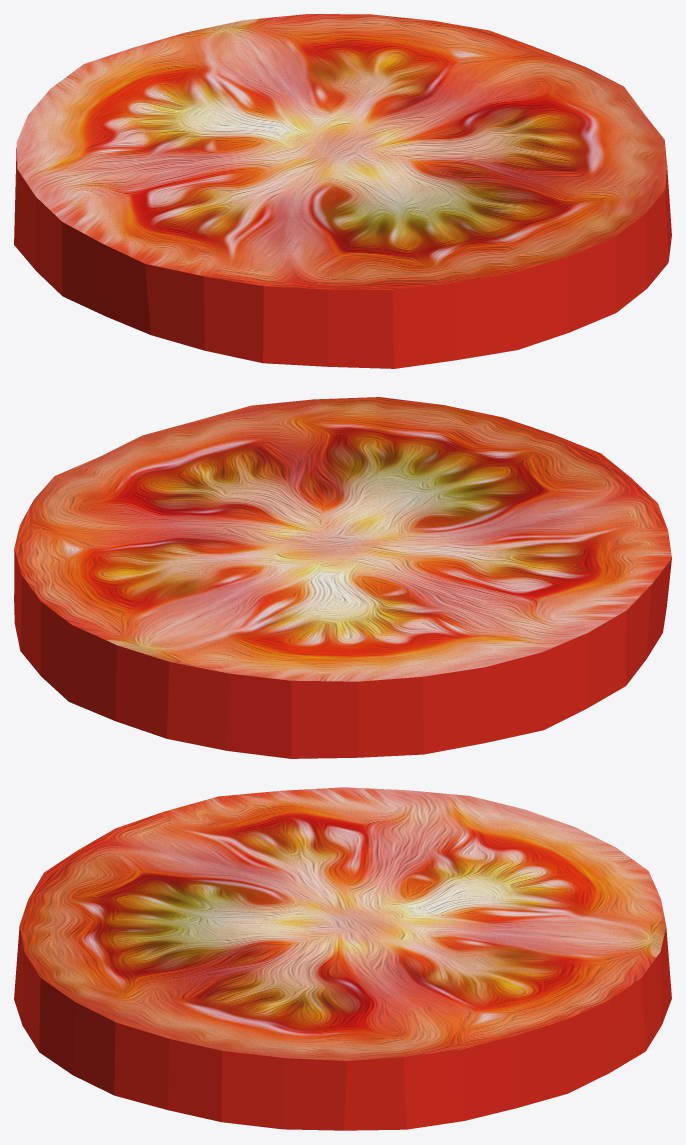
The model's file is tomato_slice.fbx.
The picture shows the model from 3 angles, top to bottom: view 1: azimuth 30°, elevation 25°; view 2: azimuth 150°, elevation 25°; view 3: azimuth 270°, elevation 25°; orthographic projection. The views are drawn at different scales.
Parts seen in each view (by area): view 1: tomato_slice; view 2: tomato_slice; view 3: tomato_slice.
Part boxes in pixels (x1,y1,x2,y2): tomato_slice: (14, 14, 671, 368); tomato_slice: (14, 397, 671, 758); tomato_slice: (14, 787, 671, 1130).
Size of the model in its own units: 26.13 by 3.4 by 26.89.
Materials: 1 (1 with a texture image).
